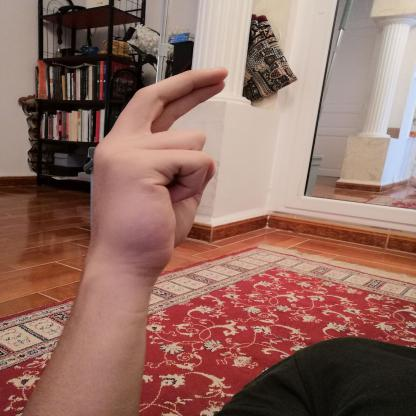ZAY: (78, 57, 243, 281)
